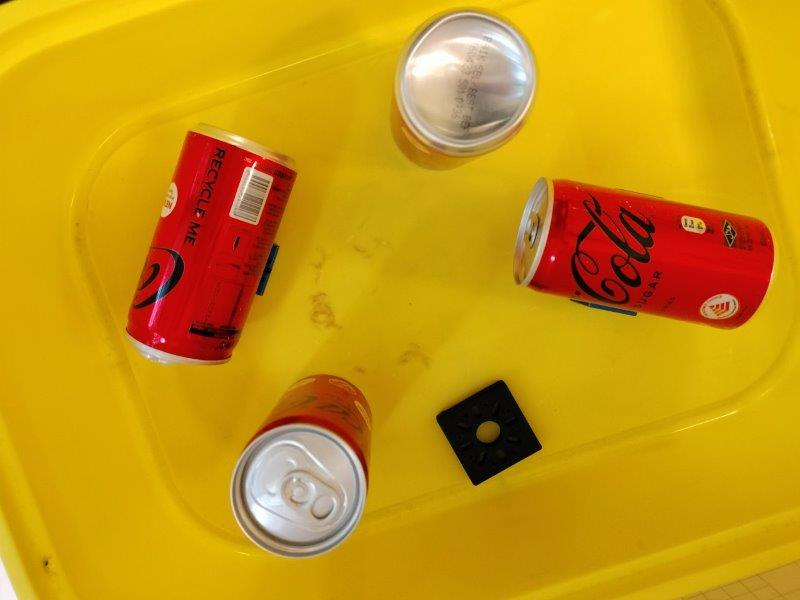Coke: (122, 121, 302, 368), (512, 178, 778, 330), (231, 375, 372, 559), (388, 7, 538, 171)
